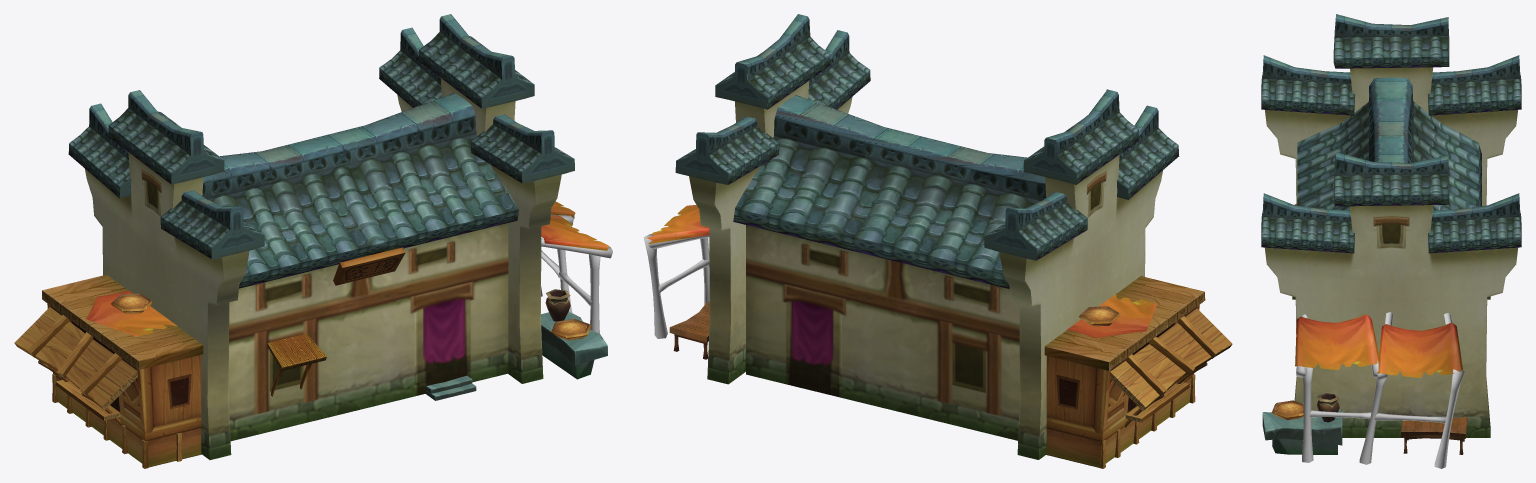
Rendered from kefang.FBX.
3 renders of one model, left to right at view 1: azimuth 30°, elevation 25°; view 2: azimuth 150°, elevation 25°; view 3: azimuth 270°, elevation 25°, orthographic. The views are drawn at different scales.
Visible parts, largest first — view 1: Object036; view 2: Object036; view 3: Object036.
Part boxes in pixels (x1=…): Object036: x1=14, y1=14, x2=612, y2=468; Object036: x1=643, y1=14, x2=1232, y2=468; Object036: x1=1261, y1=14, x2=1521, y2=468.
Bounding box in the file's own units: 1185 × 673 × 568.
